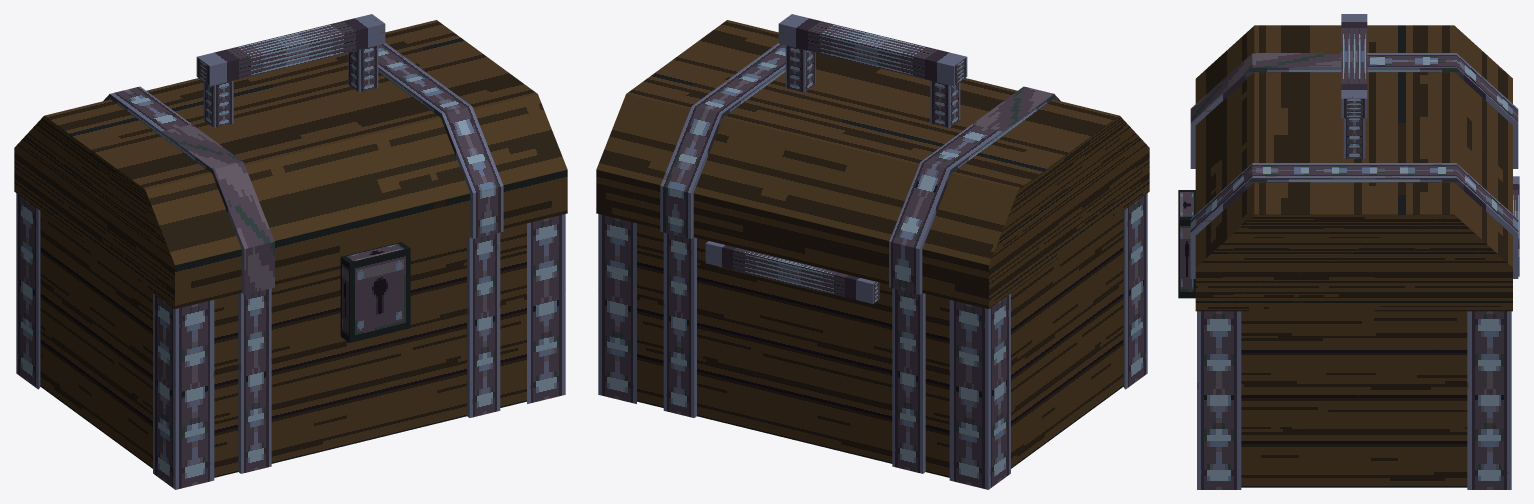
File: chest_guard.glb
3 renders of one model, left to right at view 1: azimuth 30°, elevation 25°; view 2: azimuth 150°, elevation 25°; view 3: azimuth 270°, elevation 25°, orthographic.
Parts seen in each view (by area): view 1: lid, base, lock; view 2: lid, base; view 3: lid, base, lock.
Boxes of the visible parts, <box> form: lid: <box>14,14,567,308</box>; base: <box>16,193,565,489</box>; lock: <box>340,242,410,342</box>; lid: <box>596,14,1149,308</box>; base: <box>598,193,1147,489</box>; lid: <box>1190,14,1518,311</box>; base: <box>1197,176,1519,489</box>; lock: <box>1178,190,1195,298</box>.
Bounding box in the file's own units: 1.03 × 0.862 × 0.785.
1 material, 1 textured.
